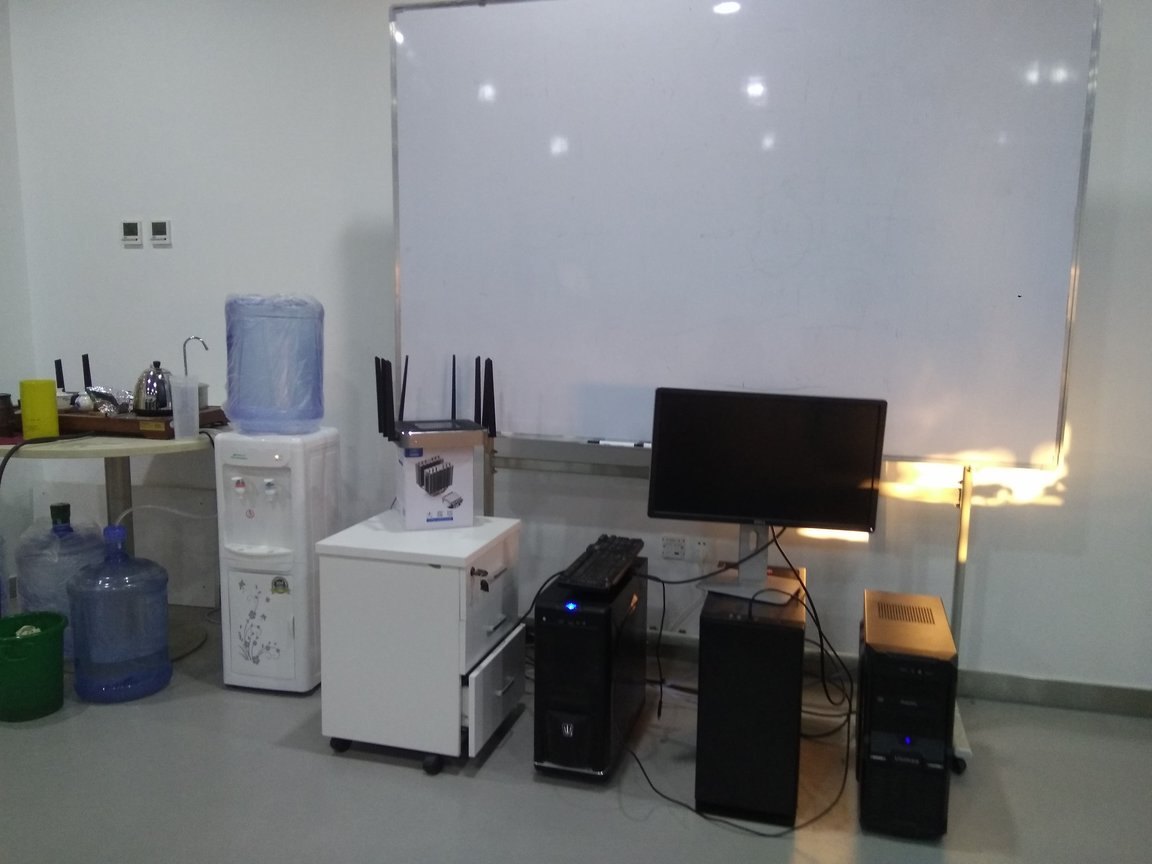computer: (531, 548, 654, 805), (699, 553, 807, 837), (857, 587, 957, 851)
drawer chest: (316, 511, 536, 781)
monitor: (650, 384, 886, 599)
scuttlebutt: (80, 521, 177, 706), (220, 294, 326, 437), (19, 505, 104, 676)
water dispenser: (208, 426, 344, 705)
